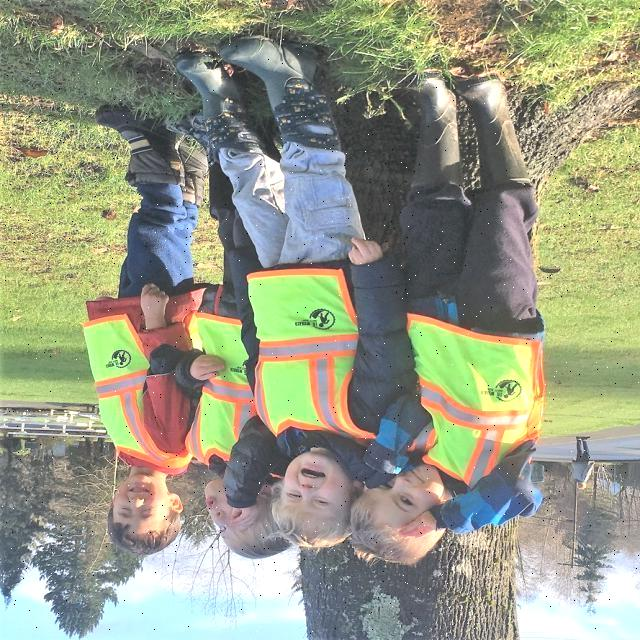Vest: (254, 259, 361, 464), (418, 324, 536, 478), (82, 301, 174, 477), (187, 306, 246, 482)
